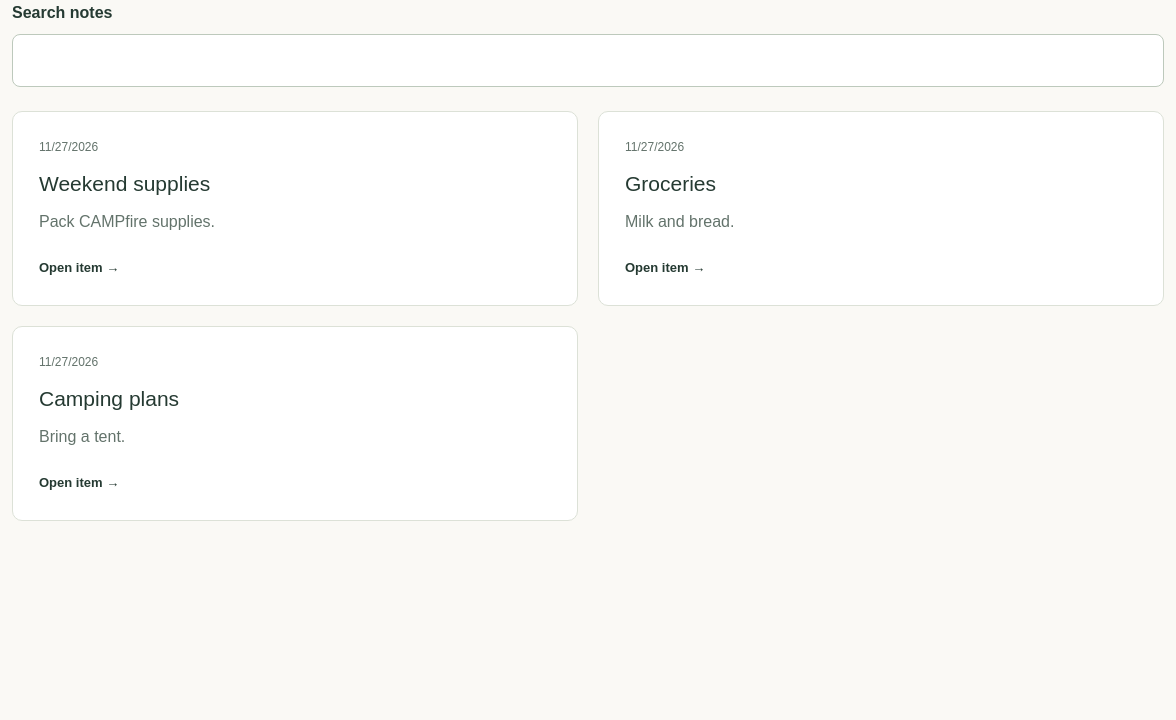
Test: filters title and body matches without changing their order for query aMp
Type "aMp" into the search field labelled "Search notes" at (588, 60), box [12,34,1164,87]
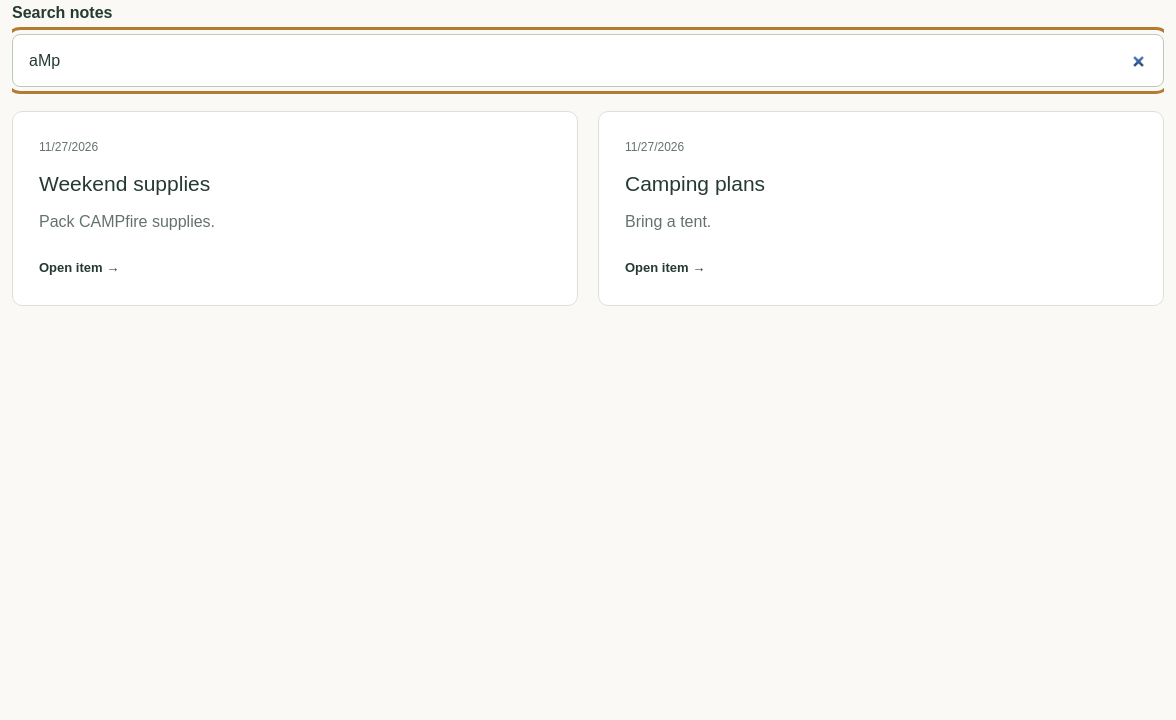
Result: the headings read "Weekend supplies", "Camping plans", in this order at [39,172,210,195]; [625,172,765,195]
Result: the link "Groceries" is gone
